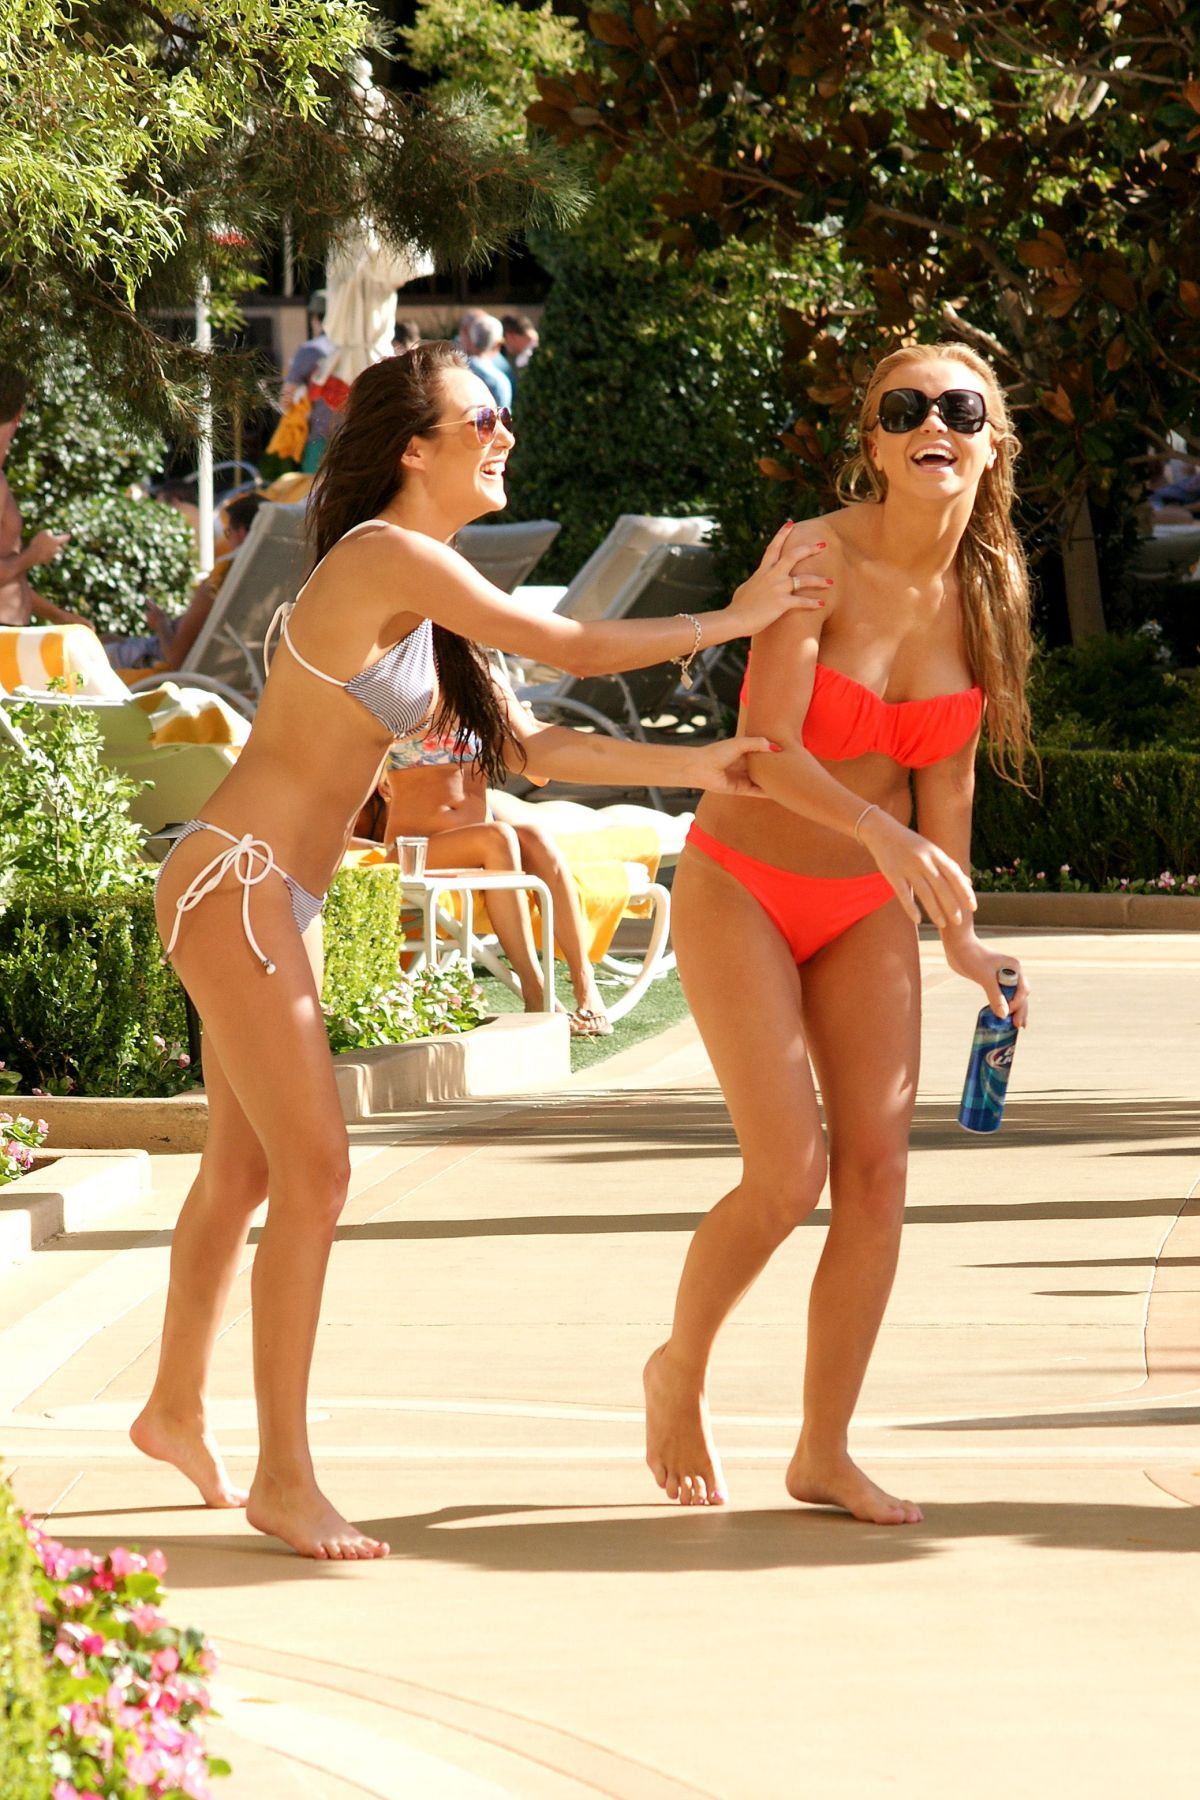Person: (101, 350, 807, 1597), (601, 320, 1113, 1556)
